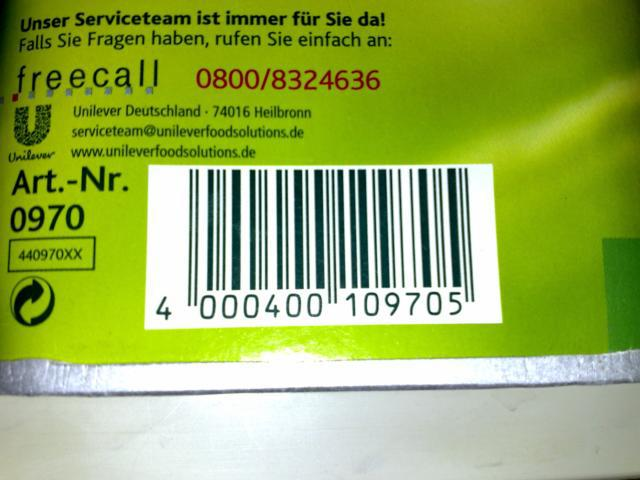Barkod: (184, 164, 472, 292)
